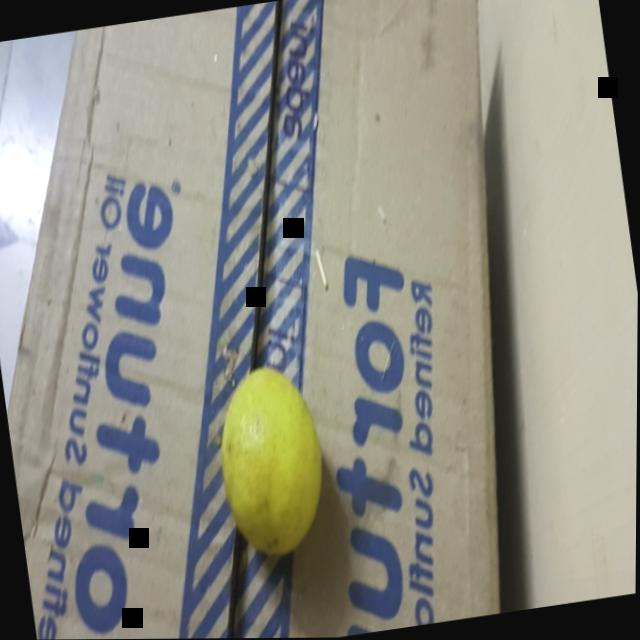lemon: (187, 353, 348, 571)
